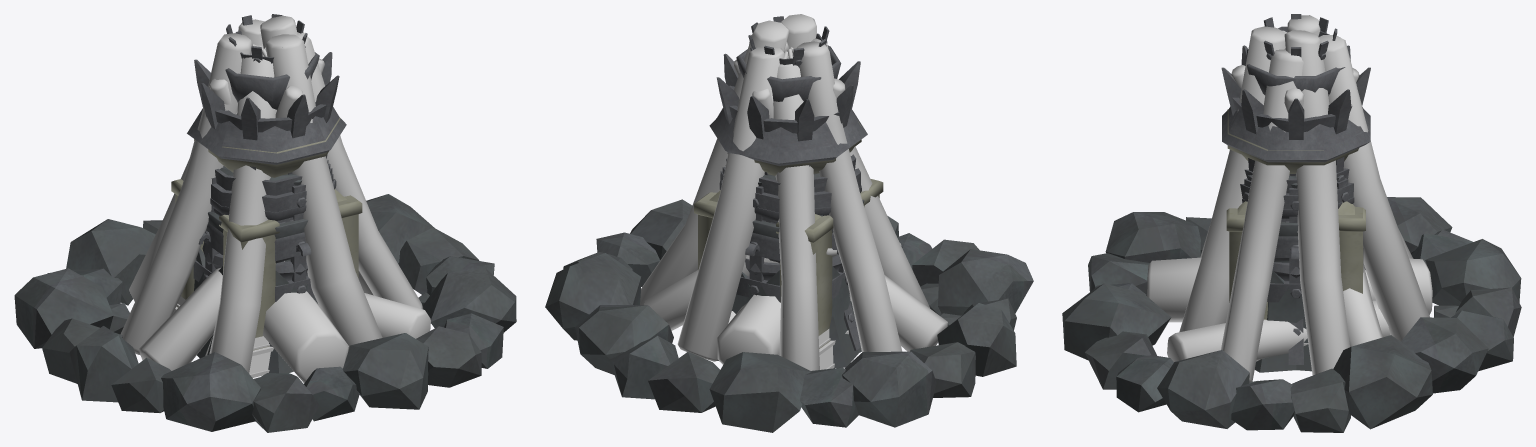
The model's file is braziers.fbx.
3 views of the same model, side by side, from view 1: azimuth 30°, elevation 25°; view 2: azimuth 150°, elevation 25°; view 3: azimuth 270°, elevation 25° (orthographic).
Parts seen in each view (by area): view 1: stones, logs, Cylinder, braizer, top, Cylinder.003, bowl.003, post.001, bowl.002, metal, Cube.008, top.002 (+2 smaller); view 2: stones, logs, Cylinder, top, braizer, Cylinder.003, bowl.003, top.002, bowl.002, post.001, legs, metal (+1 smaller); view 3: stones, logs, Cylinder, top, braizer, bowl.003, Cylinder.003, top.002, post.001, legs, Cube.008.
Part boxes in pixels (bbox=[...]): stones: bbox=[14, 194, 516, 432]; logs: bbox=[120, 15, 430, 383]; Cylinder: bbox=[194, 52, 339, 373]; braizer: bbox=[171, 118, 362, 350]; top: bbox=[187, 102, 346, 164]; Cylinder.003: bbox=[193, 174, 333, 301]; bowl.003: bbox=[225, 52, 319, 109]; post.001: bbox=[205, 58, 324, 355]; bowl.002: bbox=[207, 198, 306, 263]; metal: bbox=[215, 154, 328, 195]; Cube.008: bbox=[205, 168, 332, 282]; top.002: bbox=[226, 14, 307, 63]; stones: bbox=[545, 199, 1033, 432]; logs: bbox=[640, 14, 947, 370]; Cylinder: bbox=[716, 53, 861, 368]; top: bbox=[709, 108, 867, 165]; braizer: bbox=[694, 121, 883, 348]; Cylinder.003: bbox=[720, 168, 860, 302]; bowl.003: bbox=[736, 45, 841, 101]; top.002: bbox=[748, 16, 829, 67]; bowl.002: bbox=[719, 185, 861, 262]; post.001: bbox=[733, 59, 845, 118]; legs: bbox=[745, 243, 860, 350]; metal: bbox=[726, 152, 855, 195]; stones: bbox=[1062, 197, 1521, 432]; logs: bbox=[1147, 15, 1432, 382]; Cylinder: bbox=[1221, 45, 1370, 372]; top: bbox=[1222, 106, 1370, 162]; braizer: bbox=[1226, 109, 1365, 319]; bowl.003: bbox=[1247, 49, 1345, 95]; Cylinder.003: bbox=[1240, 182, 1353, 302]; top.002: bbox=[1264, 14, 1337, 56]; post.001: bbox=[1231, 65, 1359, 112]; legs: bbox=[1288, 247, 1303, 364]; Cube.008: bbox=[1244, 178, 1348, 283].
Size of the model in its own units: 343 by 260 by 360.
